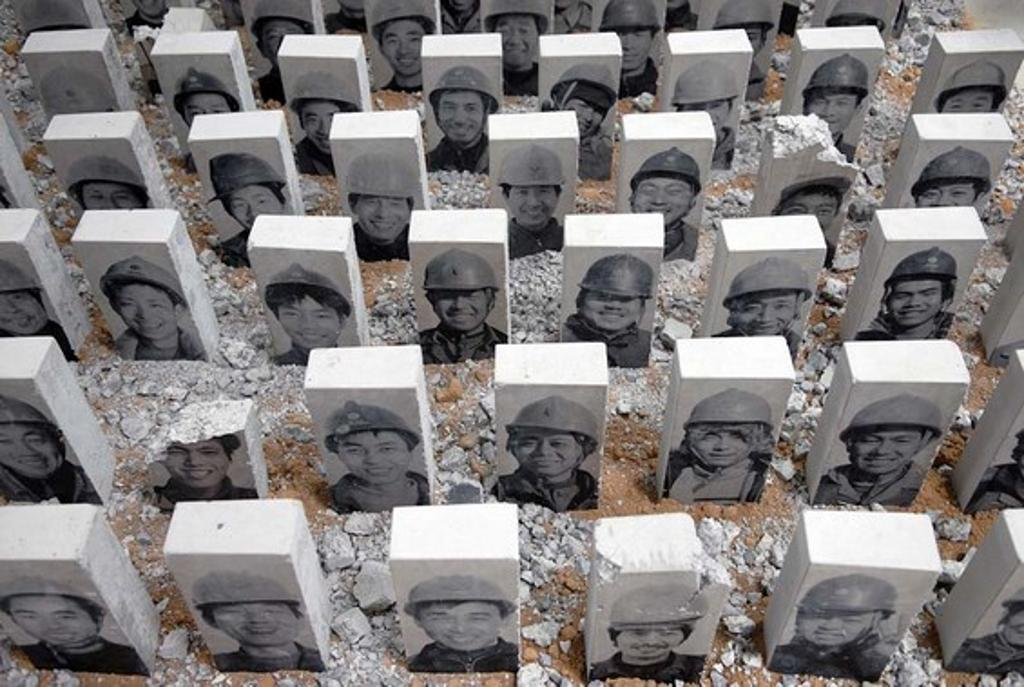face: (2, 593, 98, 644), (419, 603, 502, 649), (212, 602, 296, 646), (337, 431, 407, 483), (162, 435, 228, 488), (0, 422, 63, 477), (114, 284, 174, 339), (512, 427, 579, 476), (278, 295, 339, 348), (853, 427, 921, 473), (692, 422, 756, 466), (802, 607, 875, 645), (735, 290, 795, 336), (616, 624, 683, 665), (634, 177, 691, 224), (779, 192, 836, 237), (582, 287, 642, 329), (301, 101, 348, 154), (889, 279, 942, 326), (381, 20, 427, 74), (438, 91, 485, 143), (357, 194, 410, 240), (227, 184, 280, 229), (918, 178, 973, 221), (808, 91, 858, 134), (433, 291, 488, 330), (495, 15, 537, 66), (82, 182, 142, 217), (0, 290, 46, 333), (262, 21, 304, 67), (508, 184, 555, 225), (560, 95, 606, 136), (182, 93, 230, 132), (941, 89, 992, 123), (610, 26, 651, 68), (681, 100, 728, 133), (725, 24, 761, 65)
